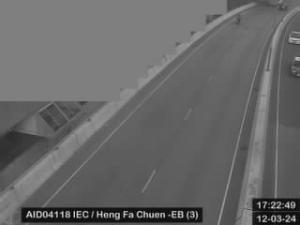motorbike: (235, 15, 245, 25)
vehicle: (290, 54, 300, 76), (288, 31, 300, 44)
